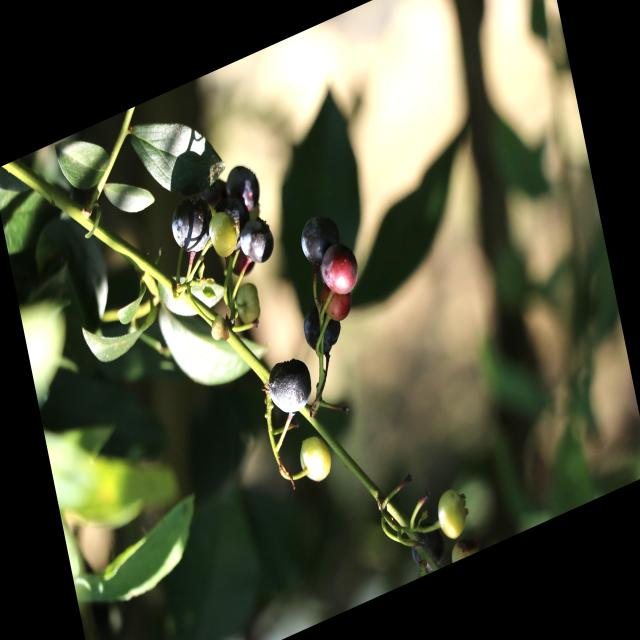blueberry: (256, 342, 321, 428), (160, 182, 218, 272), (292, 198, 347, 276), (295, 290, 349, 367), (229, 200, 280, 280), (216, 147, 269, 223)
blueberry-halfripe: (317, 239, 362, 304)
blueberry-unripe: (432, 476, 479, 544), (293, 428, 335, 492), (230, 274, 268, 329), (205, 208, 242, 264)
